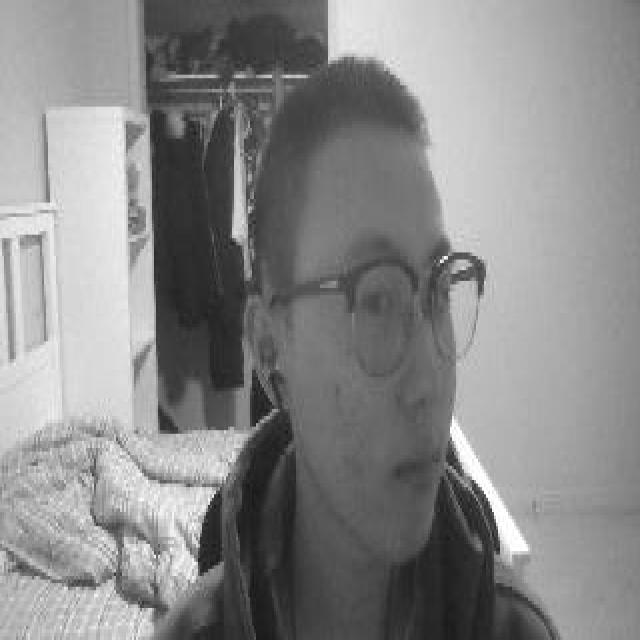Focused: (316, 187, 489, 514)
